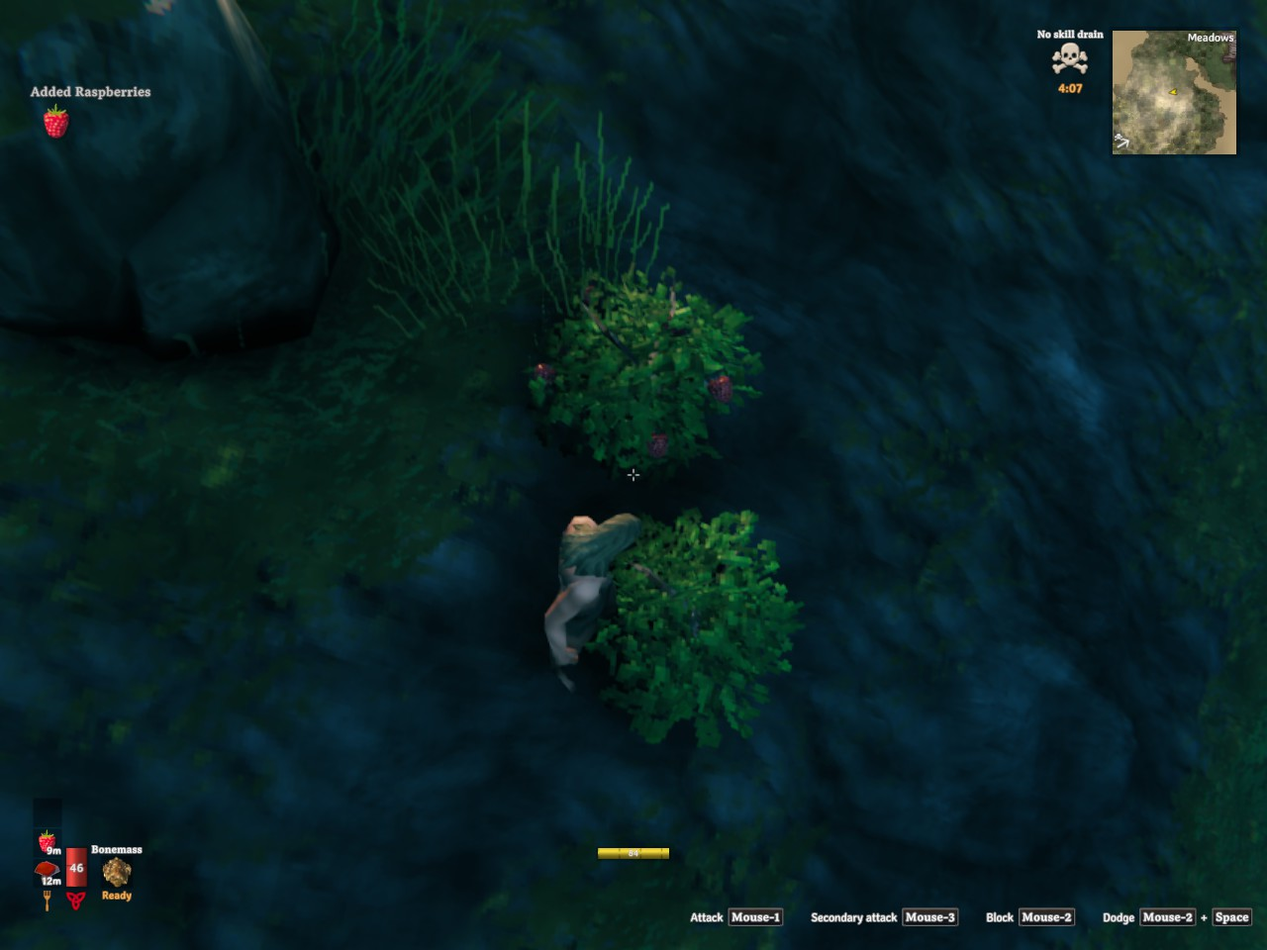Raspberries: (536, 280, 756, 465)
